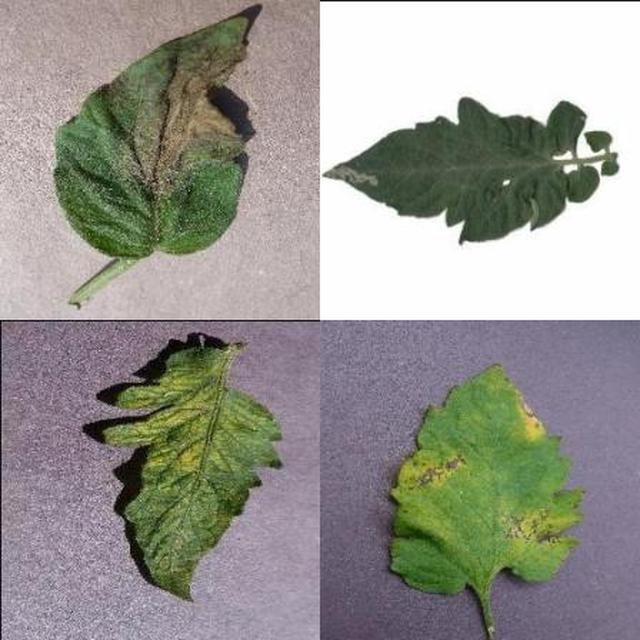Late Blight Leaf: (220, 195, 640, 640)
